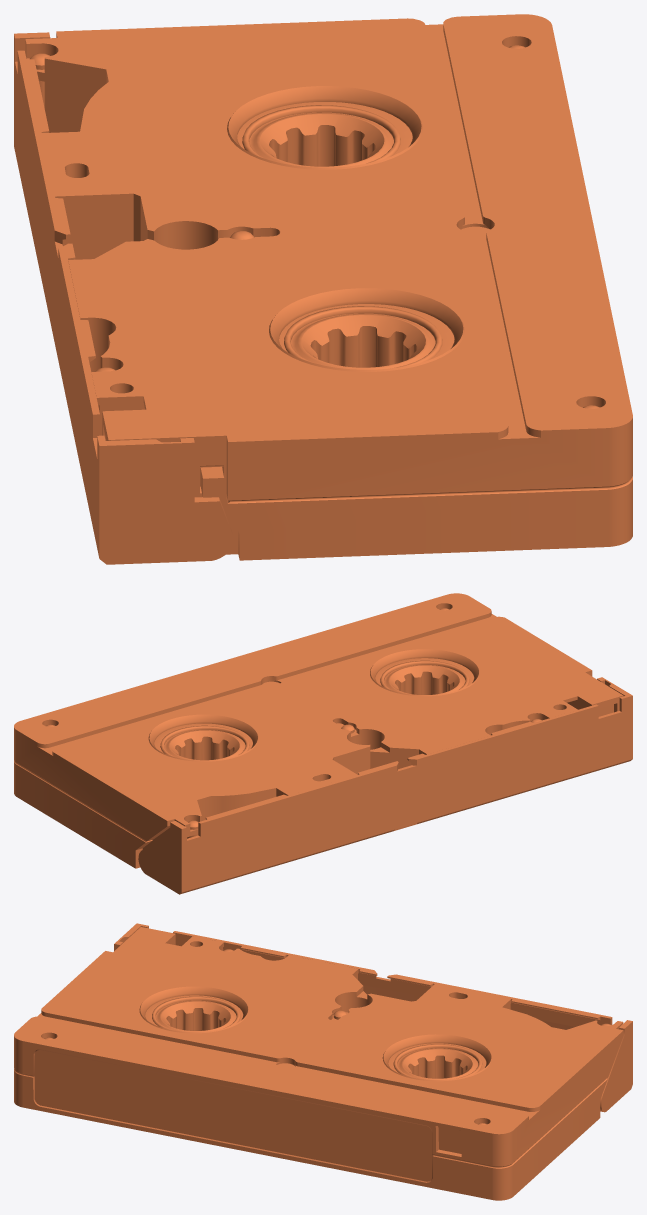
Rendered from SM_Sculpture_VHS.fbx.
3 views of the same model, one above another, from view 1: azimuth 30°, elevation 25°; view 2: azimuth 150°, elevation 25°; view 3: azimuth 270°, elevation 25° (orthographic). The views are drawn at different scales.
Parts seen in each view (by area): view 1: Plane008; view 2: Plane008; view 3: Plane008.
Part boxes in pixels (left/top/right/bottom): Plane008: left=14, top=14, right=632, bottom=564; Plane008: left=14, top=593, right=632, bottom=894; Plane008: left=14, top=923, right=632, bottom=1200.
Bounding box in the file's own units: 16.97 × 2.53 × 21.06.
